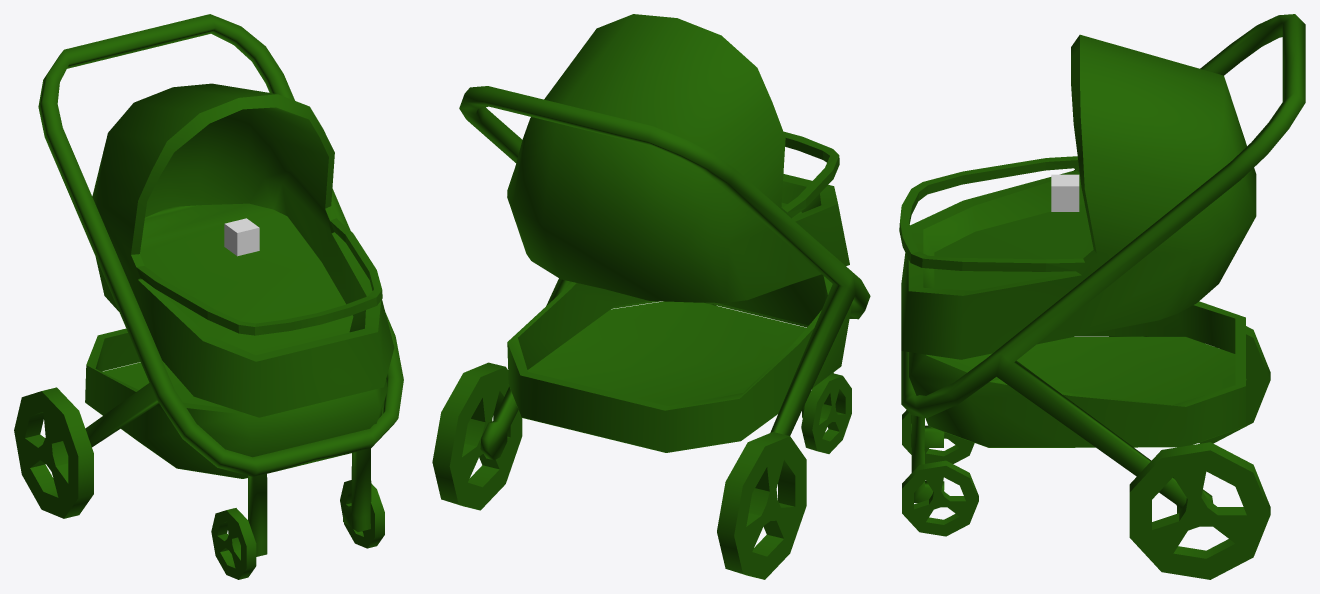
Rendered from Stroller.DAE.
3 views of the same model, side by side, from view 1: azimuth 30°, elevation 25°; view 2: azimuth 150°, elevation 25°; view 3: azimuth 270°, elevation 25° (orthographic). The views are drawn at different scales.
Visible parts, largest first — view 1: carriage001, wheel005, wheel008, wheel007, StrollerBabyNode; view 2: carriage001, wheel005, wheel006, wheel008; view 3: carriage001, wheel006, wheel007, wheel005, wheel008, StrollerBabyNode.
Boxes of the visible parts, x1,y1,x2,y2 form: carriage001: (38, 14, 403, 556); wheel005: (14, 387, 93, 518); wheel008: (211, 508, 256, 579); wheel007: (340, 480, 384, 548); StrollerBabyNode: (224, 218, 259, 256); carriage001: (459, 14, 870, 460); wheel005: (717, 432, 806, 579); wheel006: (432, 362, 522, 510); wheel008: (801, 373, 851, 453); carriage001: (899, 14, 1305, 513); wheel006: (1129, 442, 1270, 579); wheel007: (902, 460, 978, 536); wheel005: (1147, 326, 1270, 443); wheel008: (902, 410, 974, 463); StrollerBabyNode: (1051, 174, 1079, 211).
Size of what is drawn, in the model's own units: 1.01 by 1.51 by 1.21.
